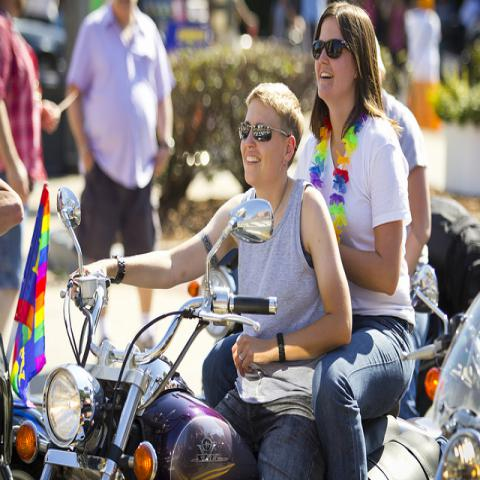motorcycle: (38, 181, 278, 472), (376, 291, 479, 472)
